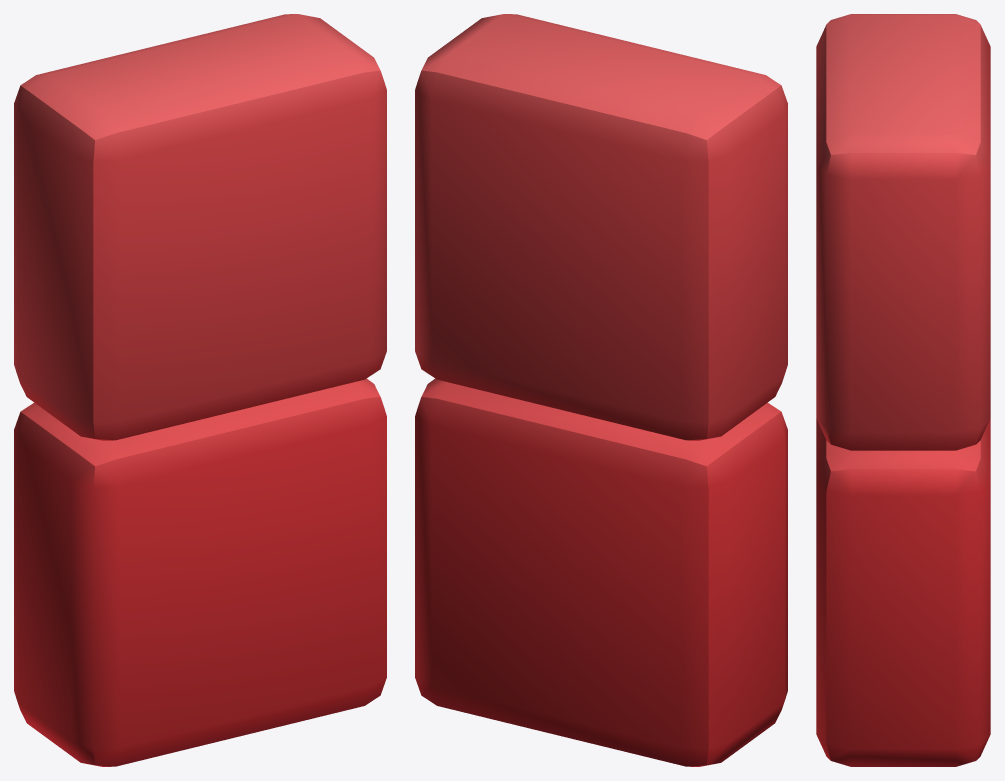
File: barrier_2x1x4_red.glb
3 renders of one model, left to right at view 1: azimuth 30°, elevation 25°; view 2: azimuth 150°, elevation 25°; view 3: azimuth 270°, elevation 25°, orthographic. The views are drawn at different scales.
Parts seen in each view (by area): view 1: barrier_2x1x4_red; view 2: barrier_2x1x4_red; view 3: barrier_2x1x4_red.
Part boxes in pixels (left/top/right/bottom): barrier_2x1x4_red: left=14, top=14, right=386, bottom=766; barrier_2x1x4_red: left=415, top=14, right=787, bottom=766; barrier_2x1x4_red: left=816, top=14, right=990, bottom=766.
Bounding box in the file's own units: 2 × 4 × 1.
1 material, 1 textured.
